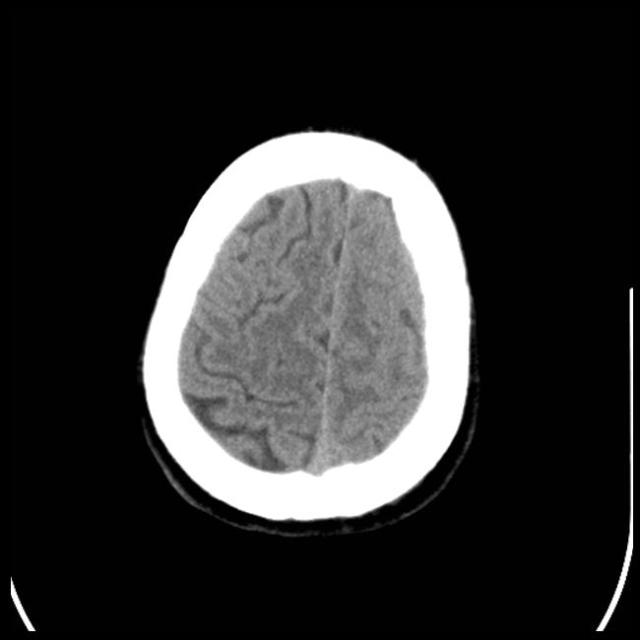lesion: (134, 122, 484, 539)
